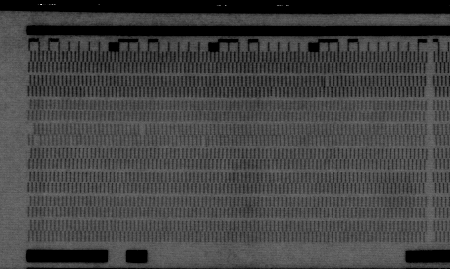Broken hole: (25, 123, 42, 148), (137, 123, 148, 136)
Oblique printing: (320, 74, 333, 88), (199, 135, 210, 148)
